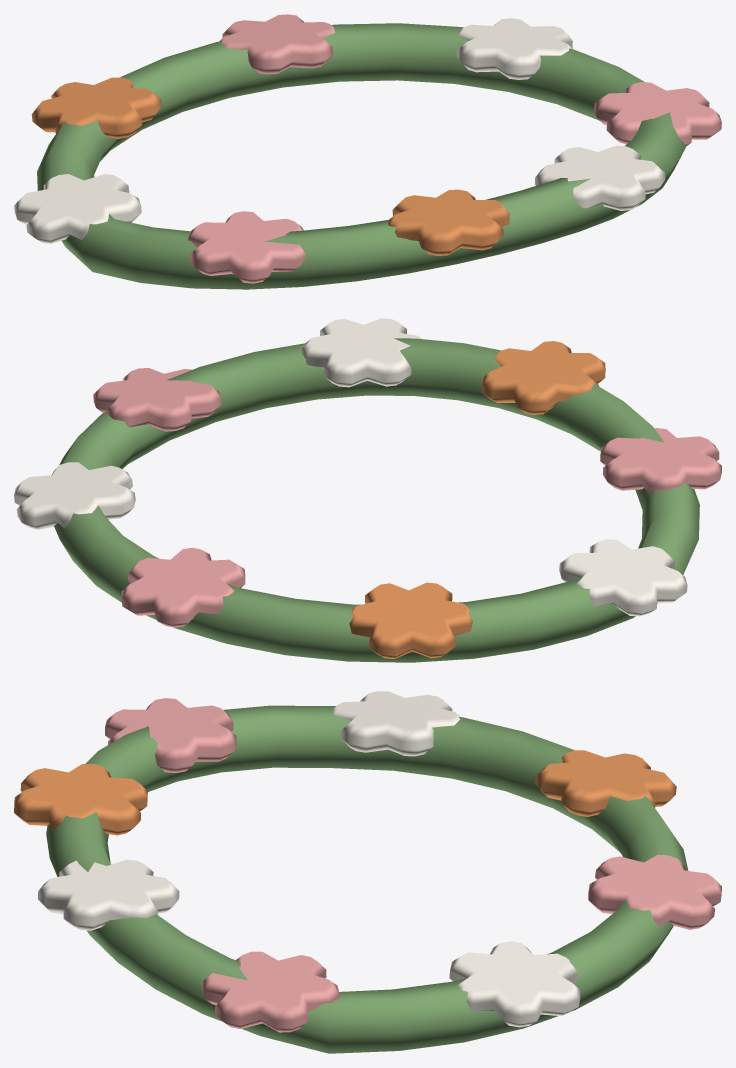
The model's file is cute_lily_crown.glb.
The picture shows the model from 3 angles, top to bottom: view 1: azimuth 30°, elevation 25°; view 2: azimuth 150°, elevation 25°; view 3: azimuth 270°, elevation 25°; orthographic projection. The views are drawn at different scales.
Parts seen in each view (by area): view 1: cute_lily_crown_Head; view 2: cute_lily_crown_Head; view 3: cute_lily_crown_Head.
Boxes of the visible parts, x1=… form: cute_lily_crown_Head: x1=14, y1=14, x2=721, y2=289; cute_lily_crown_Head: x1=14, y1=318, x2=721, y2=662; cute_lily_crown_Head: x1=14, y1=691, x2=721, y2=1053.
Bounding box in the file's own units: 0.5576 × 0.0753 × 0.5003.
